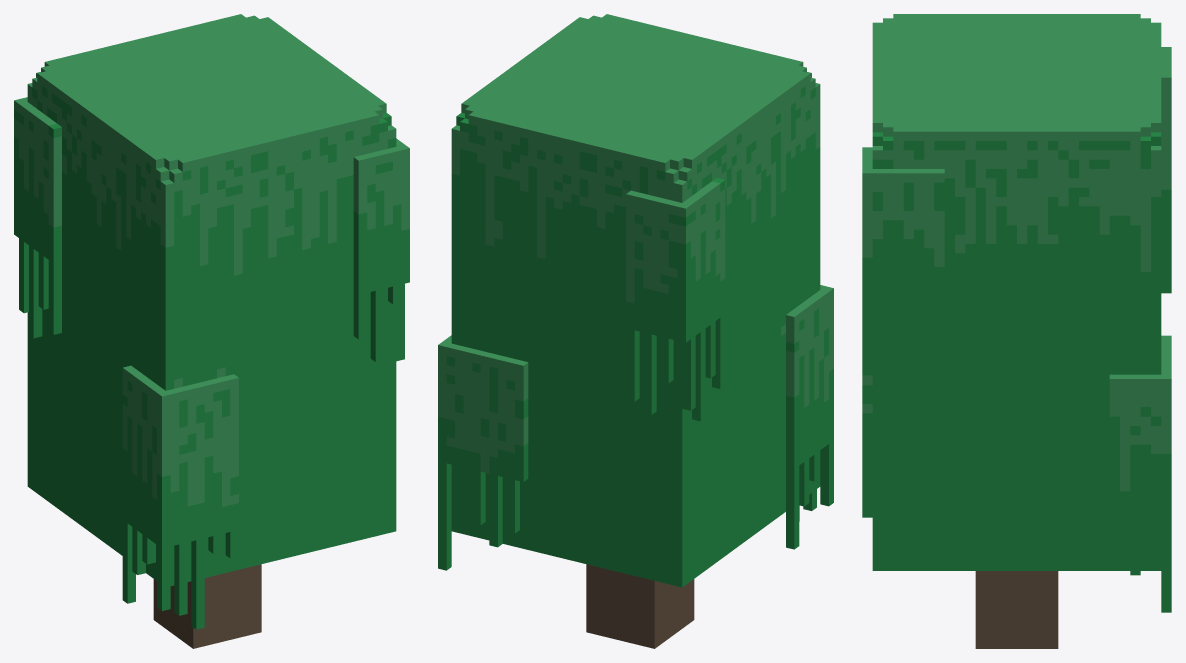
File: Tree1.obj
3 renders of one model, left to right at view 1: azimuth 30°, elevation 25°; view 2: azimuth 150°, elevation 25°; view 3: azimuth 270°, elevation 25°, orthographic. The views are drawn at different scales.
Bounding box in the file's own units: 2.9 × 6 × 3.
1 material, 1 textured.
